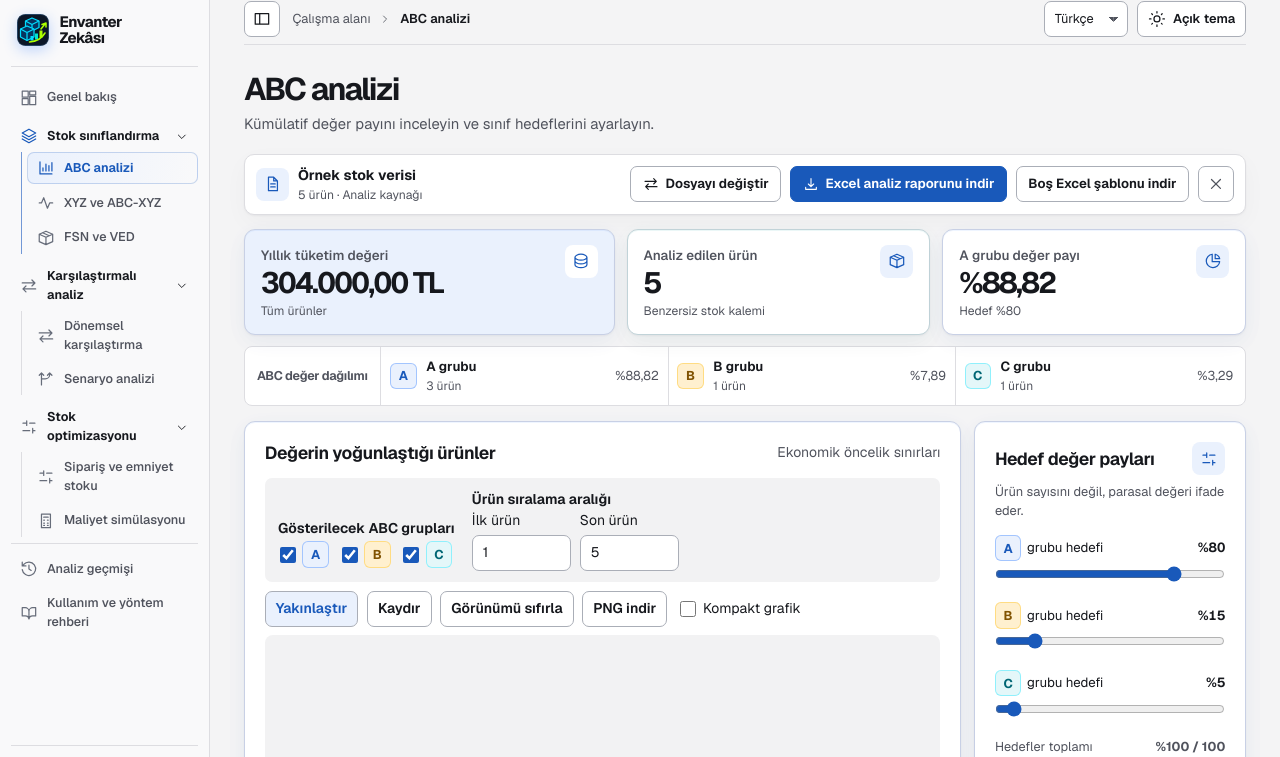
it: Gerçek React ekran entegrasyonu › geçerli hedefler yeniden hesaplanır; rehberden dönünce korunur
The width and height of the screenshot is (1280, 757).
Earlier steps of the test are not shown.
Expected: the element showing "Yıllık tüketim değeri 304.000,00 TL Tüm ürünler" is shown, [244, 229, 614, 335]
Set the slider labelled "A grubu hedefi %80" to "0": (1003, 574) [995, 566, 1225, 582]
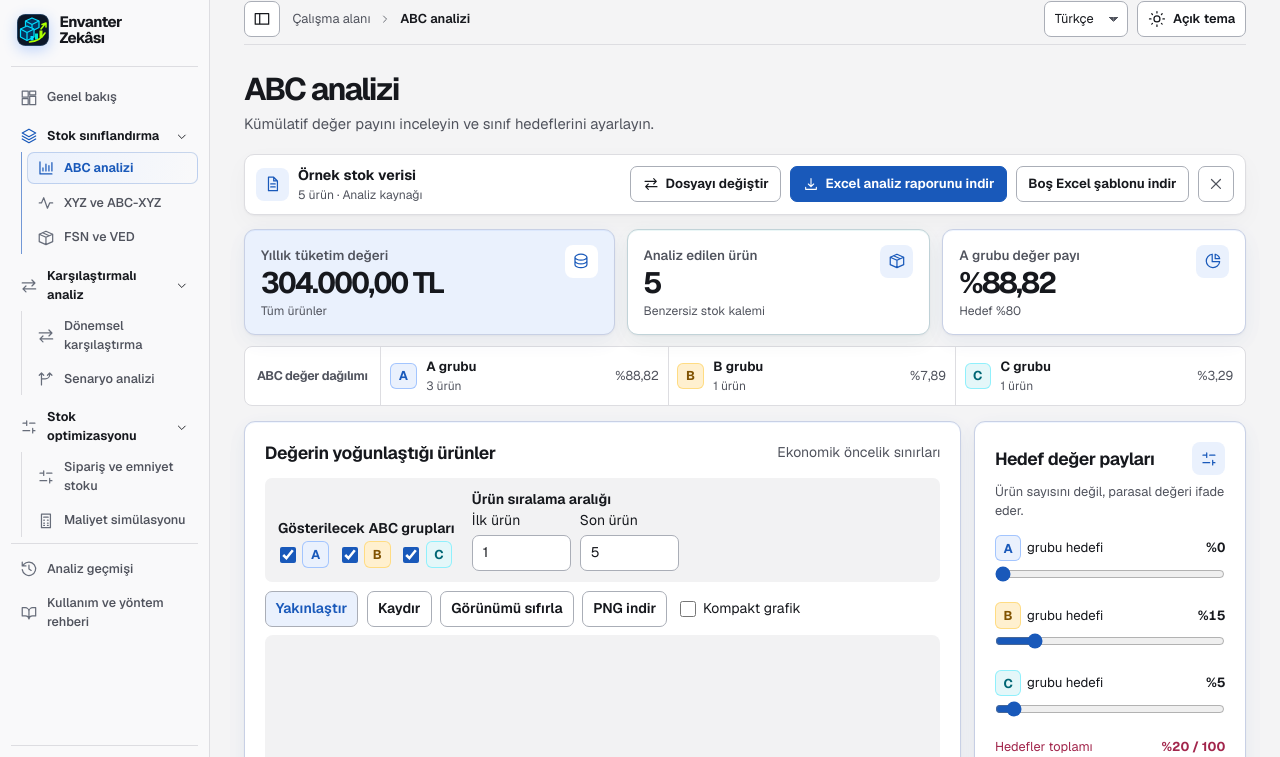
Set the slider labelled "B grubu hedefi %15" to "0": (1003, 641) [995, 633, 1225, 649]
Set the slider labelled "C grubu hedefi %5" to "100": (1217, 709) [995, 701, 1225, 717]
(page scrolled)
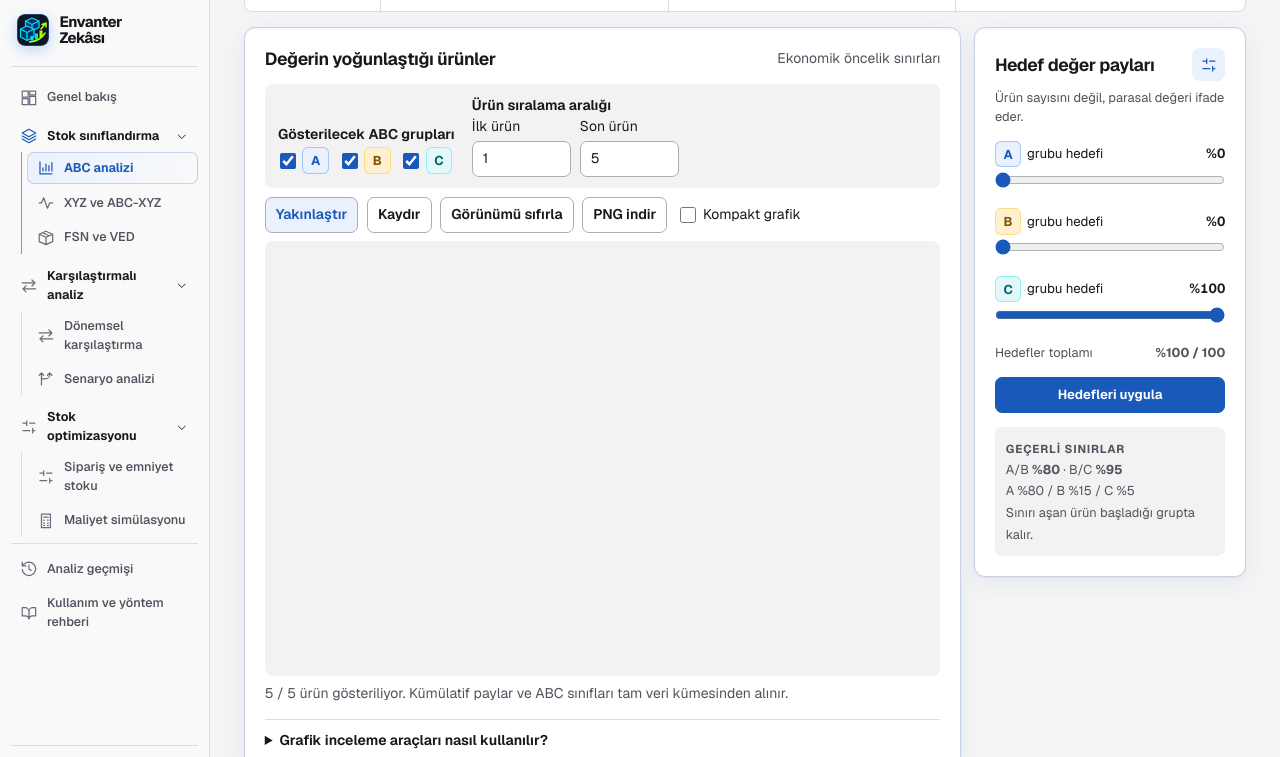
Click the button "Hedefleri uygula": (1110, 395) [995, 377, 1225, 413]
(page scrolled)
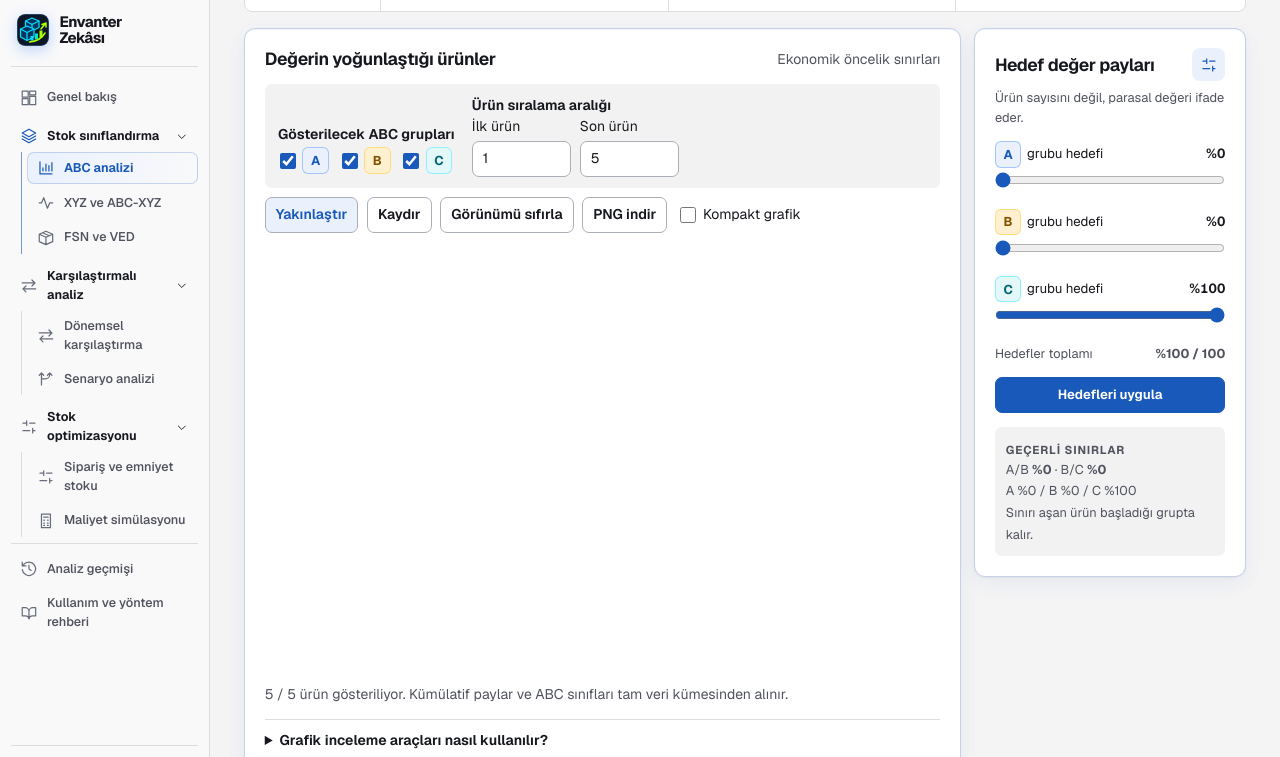
Click the link "Kullanım ve yöntem rehberi": (92, 612) [20, 594, 164, 630]
(page scrolled)
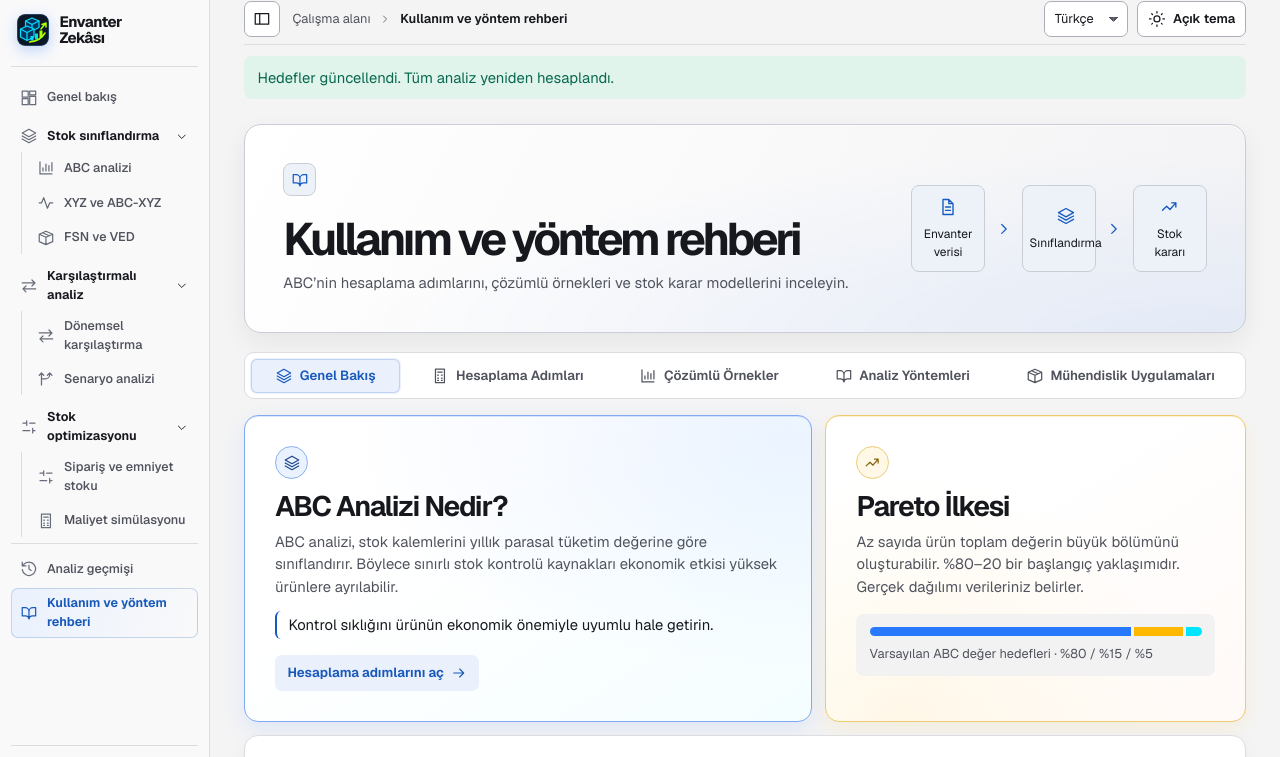
Expected: the number of tabs is 5
Click the tab "Çözümlü Örnekler": (709, 376) [614, 358, 804, 394]
(page scrolled)
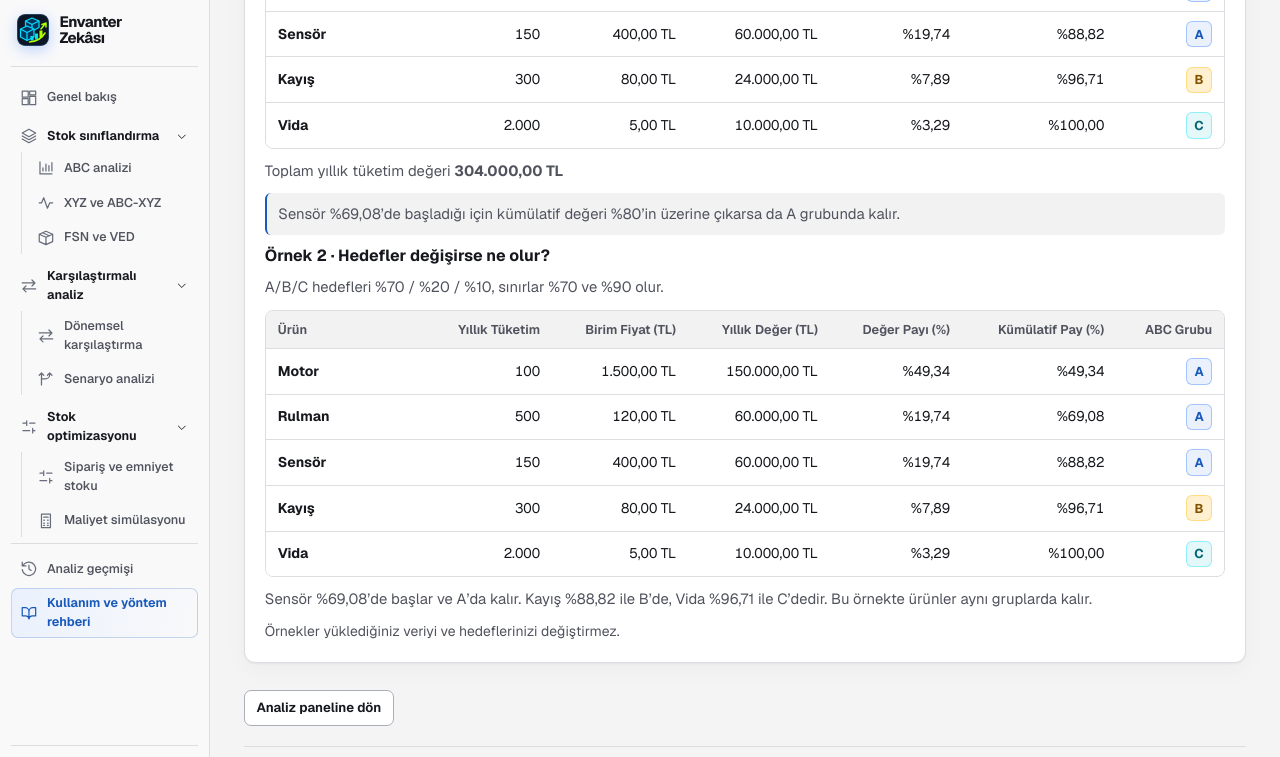
Expected: the heading "Örnek 2 · Hedefler değişirse ne olur?" is shown, [265, 244, 550, 266]
Click the button "Analiz paneline dön": (319, 708) [244, 690, 394, 726]
(page scrolled)
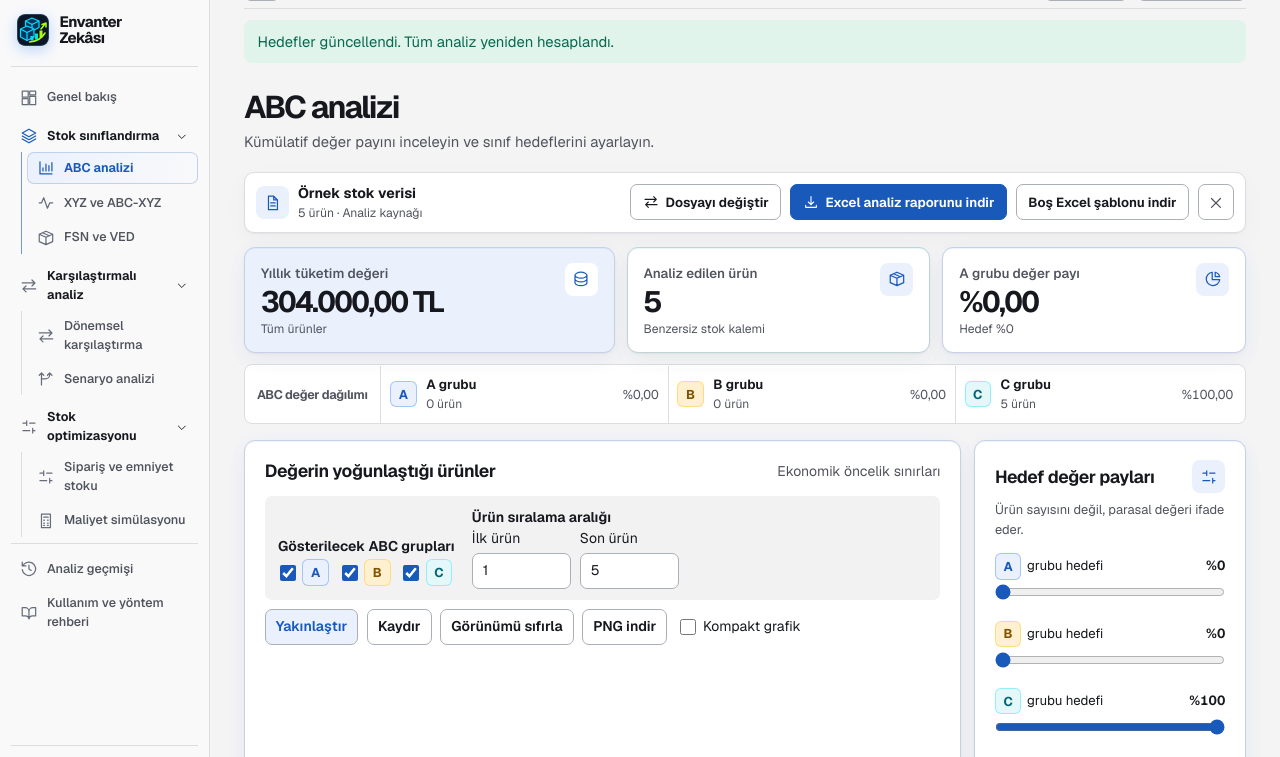
Expected: the list item "C C grubu 5 ürün %100,00" has attribute data-value="5", [955, 366, 1233, 423]
